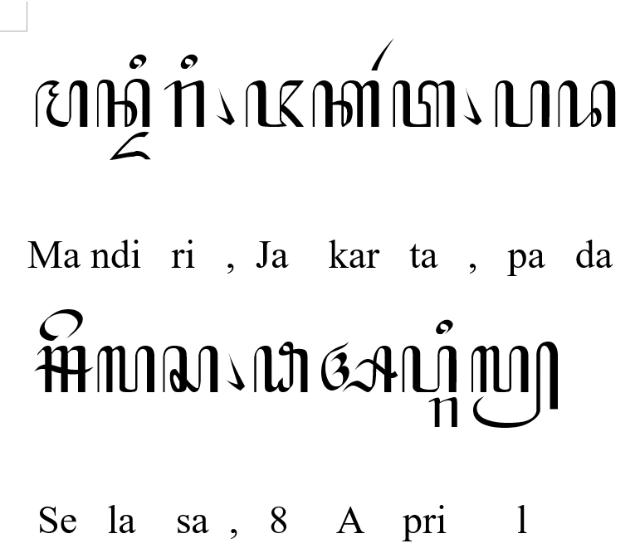-l: (469, 341, 558, 429)
A: (320, 341, 398, 393)
P: (252, 340, 310, 394)
S: (34, 346, 94, 394)
_d: (109, 131, 151, 161)
_r1: (371, 37, 395, 71)
d: (558, 80, 616, 128)
e: (38, 308, 84, 342)
i: (436, 318, 454, 336), (180, 53, 198, 70), (130, 54, 146, 70)
j: (244, 80, 304, 128)
k: (312, 79, 380, 128)
kom: (462, 86, 482, 126), (225, 352, 245, 392), (216, 86, 234, 126)
l: (96, 345, 156, 393)
m: (36, 80, 88, 128)
n: (96, 78, 150, 128)
p: (494, 79, 550, 128), (401, 346, 457, 394)
r: (163, 80, 204, 128), (428, 397, 458, 429)
s: (162, 345, 220, 393)
t: (392, 80, 456, 128)
